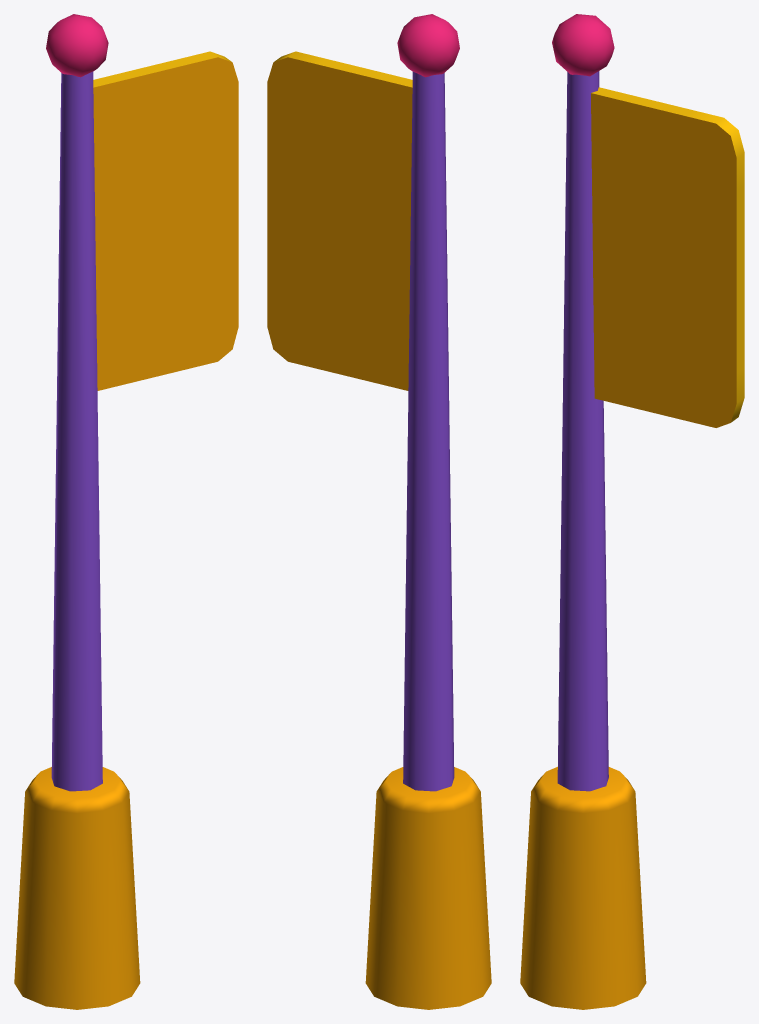
Rendered from flag_001.glb.
The picture shows the model from 3 angles, left to right: view 1: azimuth 30°, elevation 25°; view 2: azimuth 150°, elevation 25°; view 3: azimuth 330°, elevation 25°; orthographic projection.
Parts seen in each view (by area): view 1: flag_001; view 2: flag_001; view 3: flag_001.
Part boxes in pixels (box(x1,y1,x2,y2)): flag_001: box(14, 14, 238, 1009); flag_001: box(267, 14, 491, 1009); flag_001: box(520, 14, 744, 1009).
Bounding box in the file's own units: 1.09 × 4.74 × 0.5606.
Materials: 1 (1 with a texture image).
